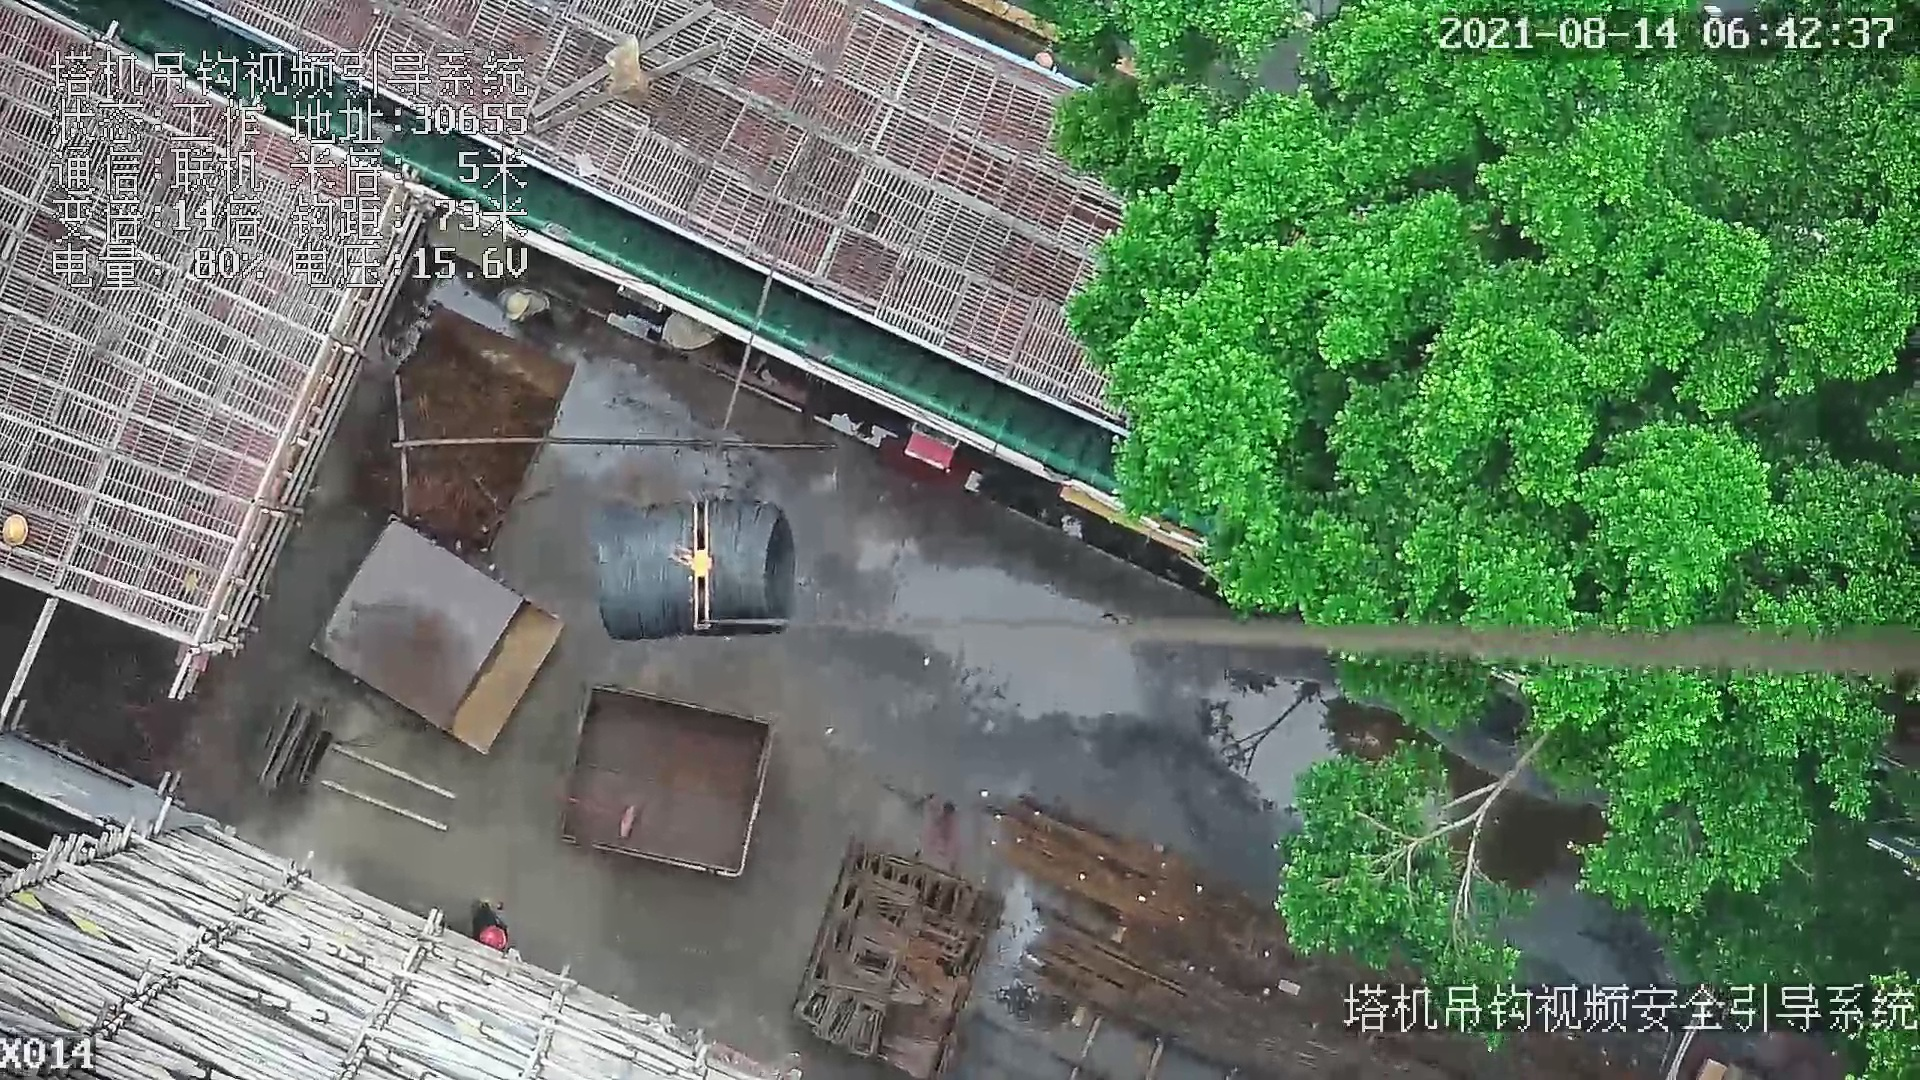helmet: (3, 513, 32, 545), (507, 294, 529, 320), (482, 924, 504, 946)
hook: (664, 497, 713, 632)
person: (468, 899, 522, 953), (495, 287, 556, 323)
